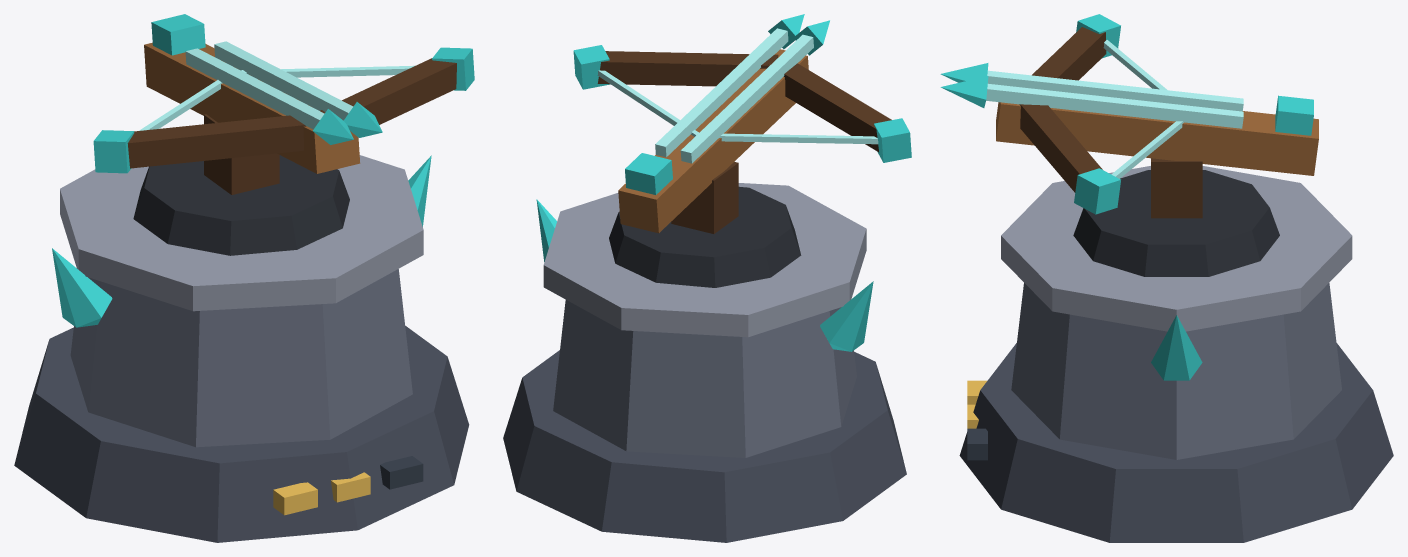
File: ballista-1.glb
The picture shows the model from 3 angles, left to right: view 1: azimuth 30°, elevation 25°; view 2: azimuth 150°, elevation 25°; view 3: azimuth 270°, elevation 25°; orthographic projection. The views are drawn at different scales.
Visible parts, largest first — view 1: ballista-1; view 2: ballista-1; view 3: ballista-1.
Boxes of the visible parts, x1=… form: ballista-1: x1=14, y1=14, x2=474, y2=542; ballista-1: x1=503, y1=14, x2=911, y2=542; ballista-1: x1=940, y1=14, x2=1393, y2=542.
Size of the model in its own units: 0.7989 by 0.8247 by 0.8776.
Materials: 1 (1 with a texture image).
